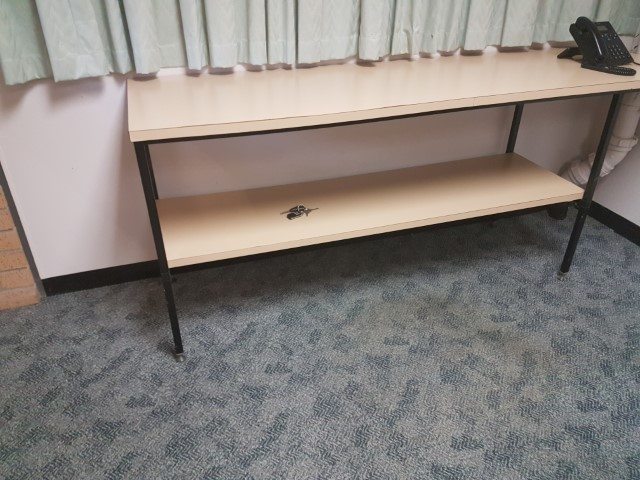key: (281, 204, 304, 214)
